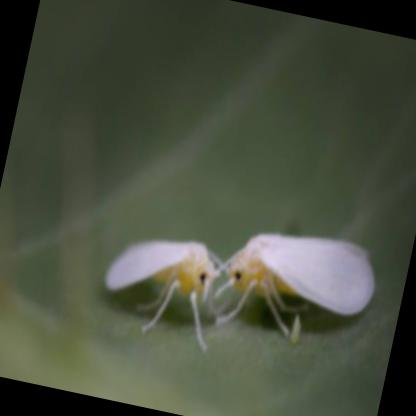whitefly: (225, 233, 375, 315), (105, 239, 216, 297)
